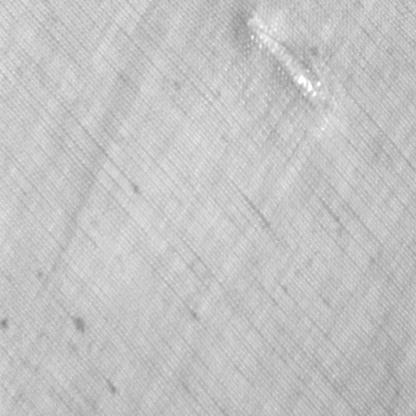hole: (240, 9, 338, 115)
